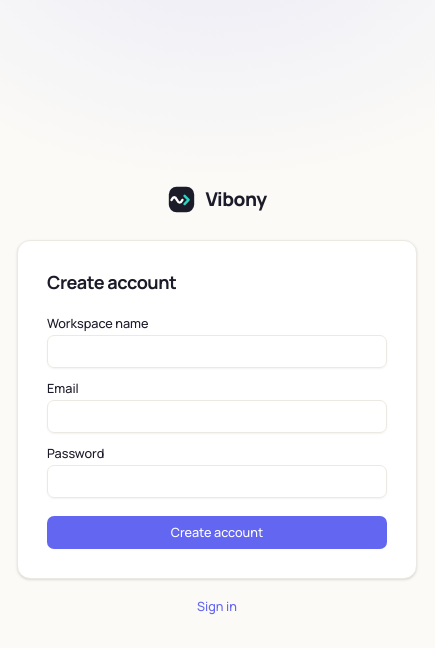
it: SignupPage › duplicate email shows error
Expected: the form with test id "signup-form" is shown, x1=47 y1=317 x2=387 y2=549
In the field with test id "signup-company": (217, 351) x1=47 y1=335 x2=387 y2=368, type "Acme"
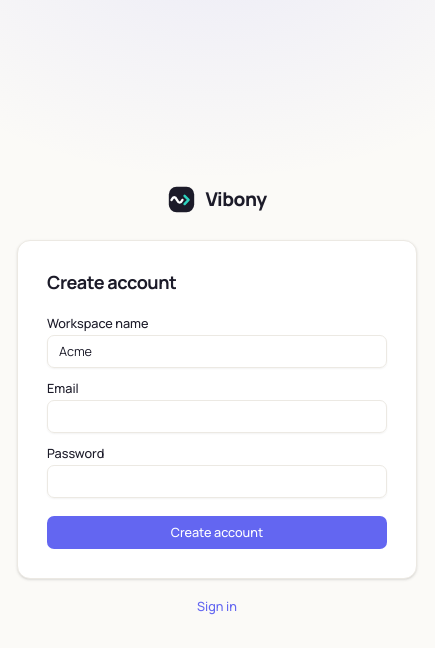
In the field with test id "signup-email": (217, 416) x1=47 y1=400 x2=387 y2=433, type "exists@co.com"
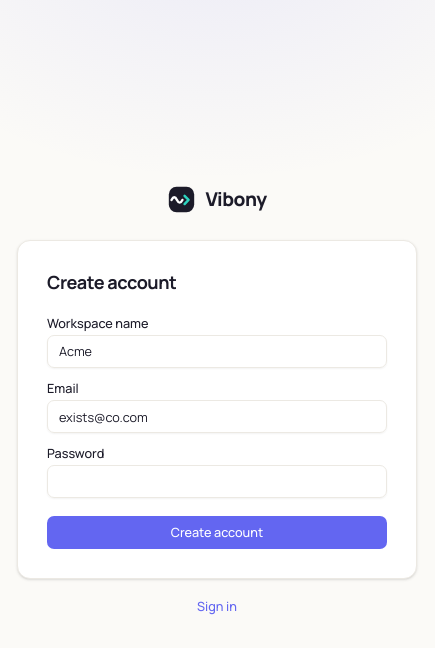
In the password field with test id "signup-password": (217, 482) x1=47 y1=466 x2=387 y2=498, type "password123"
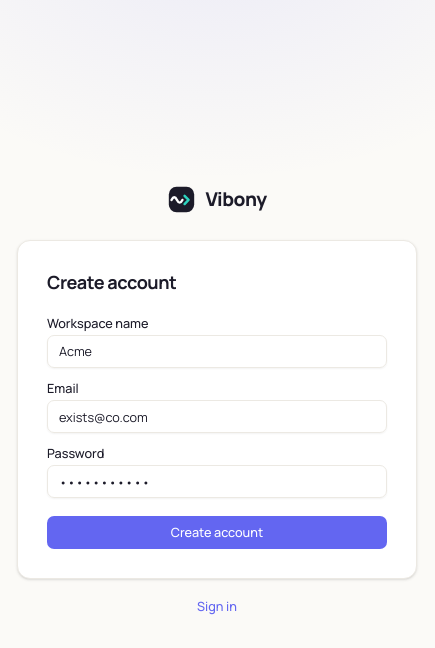
Click the button with test id "signup-submit": (217, 532) x1=47 y1=516 x2=387 y2=549
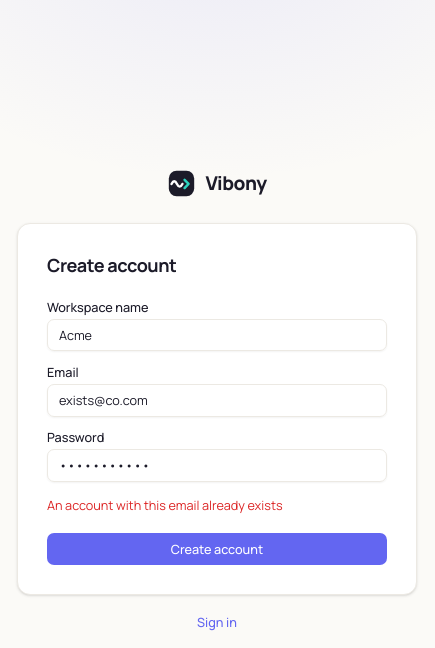
Expected: the message "An account with this email already exists" is shown, x1=47 y1=496 x2=283 y2=514
